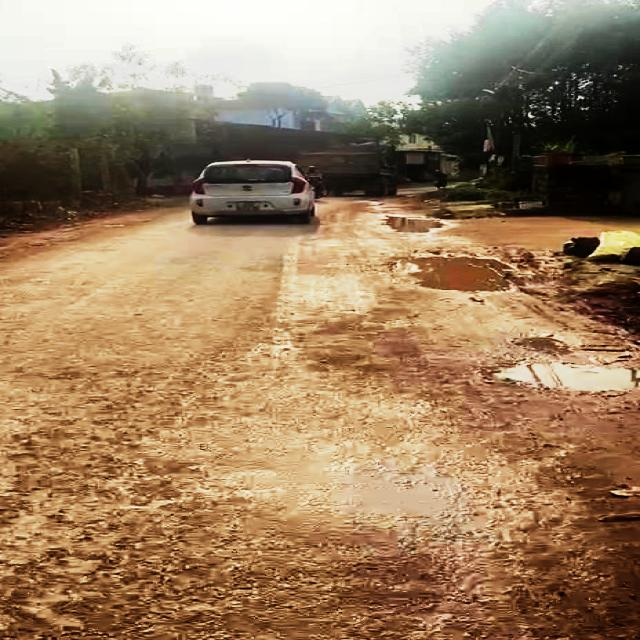pothole: (473, 326, 636, 403), (397, 248, 520, 297), (383, 214, 452, 236)
